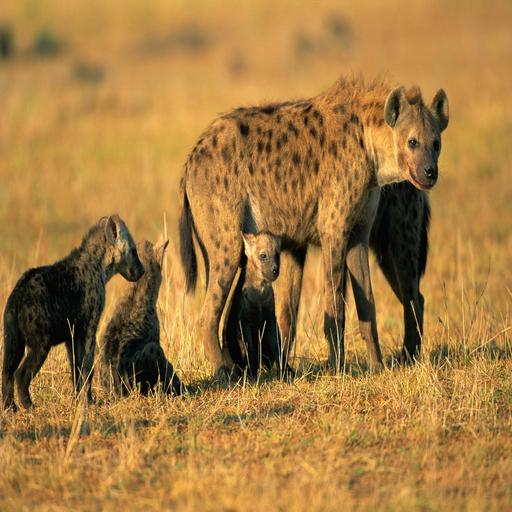Hyena: (154, 72, 468, 390), (175, 124, 439, 360), (0, 212, 148, 428), (100, 235, 195, 408), (211, 226, 295, 386)
